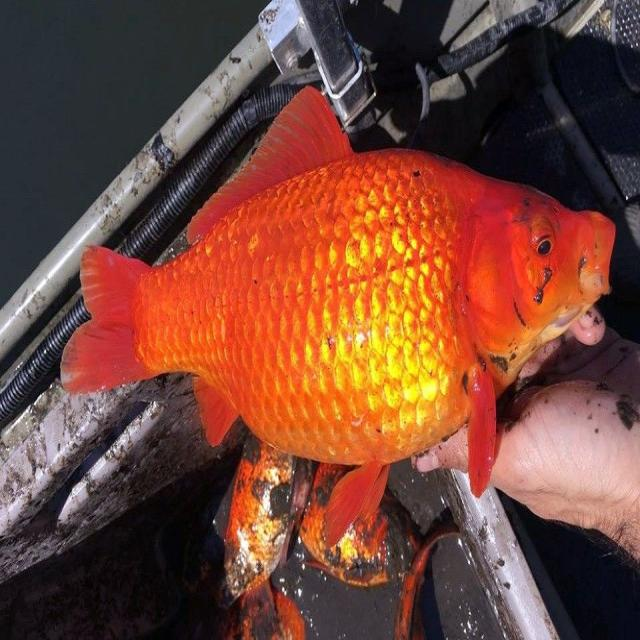Gold-Fish: (32, 50, 614, 591)
